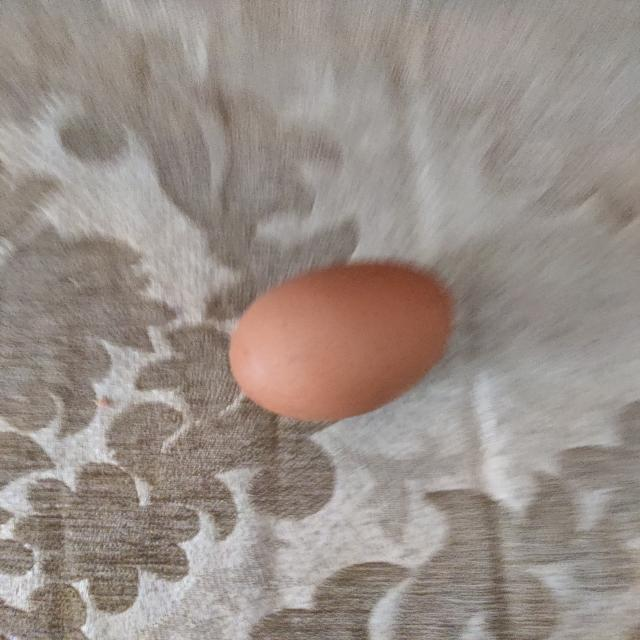Egg: (228, 258, 454, 424)
